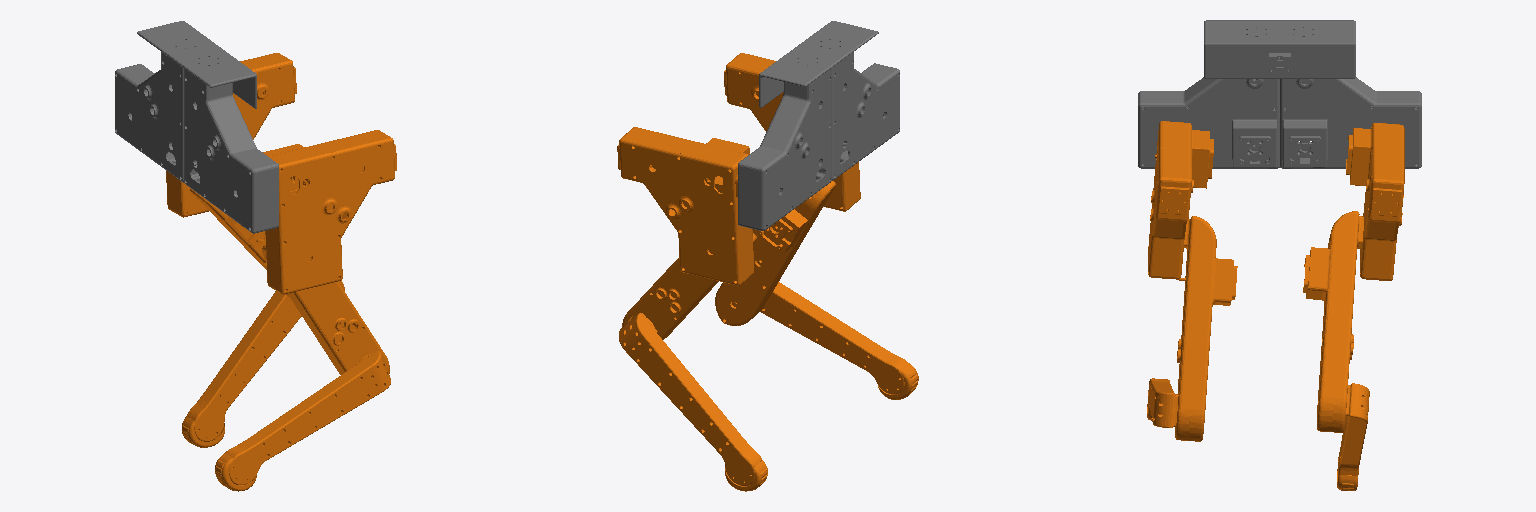
The robot description file, URDF, robot "Assembly_URDF":
<?xml version="1.0" encoding="utf-8"?>
<!-- This URDF was automatically created by SolidWorks to URDF Exporter! Originally created by Stephen Brawner (brawner@gmail.com) 
     Commit Version: 1.6.0-4-g7f85cfe  Build Version: 1.6.7995.38578
     For more information, please see http://wiki.ros.org/sw_urdf_exporter -->
<robot
  name="Assembly_URDF">
  <link
    name="Torso">
    <inertial>
      <origin
        xyz="0.061917 -0.16299 0.095403"
        rpy="0 0 0" />
      <mass
        value="1.58511" />
      <inertia
        ixx="0.010187"
        ixy="6.3307E-05"
        ixz="0.00019856"
        iyy="0.0050984"
        iyz="0.0004277"
        izz="0.0056374" />
    </inertial>
    <visual>
      <origin
        xyz="0 0 0"
        rpy="0 0 0" />
      <geometry>
        <mesh
          filename="../meshes/Torso.STL" />
      </geometry>
      <material
        name="PLA">
        <color
          rgba="0.5 0.5 0.5 1" />
      </material>
    </visual>
    <collision>
      <origin
        xyz="0 0 0"
        rpy="0 0 0" />
      <geometry>
        <mesh
          filename="../meshes/Torso.STL" />
      </geometry>
    </collision>
  </link>
  <link
    name="Hip_Left">
    <inertial>
      <origin
        xyz="-0.042811 -0.078727 -0.0058043"
        rpy="0 0 0" />
      <mass
        value="0.754" />
      <inertia
        ixx="0.0017359"
        ixy="0.00057443"
        ixz="0.00016414"
        iyy="0.0016901"
        iyz="-9.6086E-06"
        izz="0.0032829" />
    </inertial>
    <visual>
      <origin
        xyz="0 0 0"
        rpy="0 0 0" />
      <geometry>
        <mesh
          filename="../meshes/Hip_Left.STL" />
      </geometry>
      <material
        name="PLA">
        <color
          rgba="0.9 0.5 0.1 1" />
      </material>
    </visual>
    <collision>
      <origin
        xyz="0 0 0"
        rpy="0 0 0" />
      <geometry>
        <mesh
          filename="../meshes/Hip_Left.STL" />
      </geometry>
    </collision>
  </link>
  <joint
    name="hip_left"
    type="revolute">
    <origin
      xyz="0.08708 -0.34069 0.044953"
      rpy="1.5708 -1.5708 0" />
    <parent
      link="Torso" />
    <child
      link="Hip_Left" />
    <axis
      xyz="0 1 0" />
    <limit
      lower="-0.2"
      upper="0.4"
      effort="55"
      velocity="20" />
  </joint>
  <link
    name="Thigh_Left">
    <inertial>
      <origin
        xyz="0.051989 -0.016129 0.09414"
        rpy="0 0 0" />
      <mass
        value="0.655" />
      <inertia
        ixx="0.0057317"
        ixy="-0.00047408"
        ixz="-0.0028129"
        iyy="0.0075712"
        iyz="-0.00087547"
        izz="0.0023853" />
    </inertial>
    <visual>
      <origin
        xyz="0 0 0"
        rpy="0 0 0" />
      <geometry>
        <mesh
          filename="../meshes/Thigh_Left.STL" />
      </geometry>
      <material
        name="PLA">
        <color
          rgba="0.9 0.5 0.1 1" />
      </material>
    </visual>
    <collision>
      <origin
        xyz="0 0 0"
        rpy="0 0 0" />
      <geometry>
        <mesh
          filename="../meshes/Thigh_Left.STL" />
      </geometry>
    </collision>
  </link>
  <joint
    name="thigh_left"
    type="revolute">
    <origin
      xyz="-0.12726 -0.0505 -0.025187"
      rpy="1.5909 0 -1.5708" />
    <parent
      link="Hip_Left" />
    <child
      link="Thigh_Left" />
    <axis
      xyz="0 0.99521 -0.097756" />
    <limit
      lower="-2"
      upper="1"
      effort="55"
      velocity="20" />
  </joint>
  <link
    name="Shank_Left">
    <inertial>
      <origin
        xyz="-0.061153 -0.019631 -0.14718"
        rpy="0 0 0" />
      <mass
        value="0.28251" />
      <inertia
        ixx="0.0019421"
        ixy="-1.179E-05"
        ixz="-0.00078463"
        iyy="0.0023239"
        iyz="-4.0715E-05"
        izz="0.00041" />
    </inertial>
    <visual>
      <origin
        xyz="0 0 0"
        rpy="0 0 0" />
      <geometry>
        <mesh
          filename="../meshes/Shank_Left.STL" />
      </geometry>
      <material
        name="PLA">
        <color
          rgba="0.9 0.5 0.1 1" />
      </material>
    </visual>
    <collision>
      <origin
        xyz="0 0 0"
        rpy="0 0 0" />
      <geometry>
        <mesh
          filename="../meshes/Shank_Left.STL" />
      </geometry>
    </collision>
  </link>
  <joint
    name="shank_left"
    type="revolute">
    <origin
      xyz="0.13187 0.027867 0.23255"
      rpy="3.1416 -0.81921 0" />
    <parent
      link="Thigh_Left" />
    <child
      link="Shank_Left" />
    <axis
      xyz="0.071421 0.99521 -0.066747" />
    <limit
      lower="-3.5"
      upper="0.5"
      effort="55"
      velocity="20" />
  </joint>
  <link
    name="Hip_Right">
    <inertial>
      <origin
        xyz="-0.04238 -0.096347 0.018058"
        rpy="0 0 0" />
      <mass
        value="0.754" />
      <inertia
        ixx="0.00323"
        ixy="0.00098777"
        ixz="0.00013991"
        iyy="0.0031565"
        iyz="-0.00020179"
        izz="0.0061566" />
    </inertial>
    <visual>
      <origin
        xyz="0 0 0"
        rpy="0 0 0" />
      <geometry>
        <mesh
          filename="../meshes/Hip_Right.STL" />
      </geometry>
      <material
        name="PLA">
        <color
          rgba="0.9 0.5 0.1 1" />
      </material>
    </visual>
    <collision>
      <origin
        xyz="0 0 0"
        rpy="0 0 0" />
      <geometry>
        <mesh
          filename="../meshes/Hip_Right.STL" />
      </geometry>
    </collision>
  </link>
  <joint
    name="hip_right"
    type="revolute">
    <origin
      xyz="0.08177 -0.014856 0.044953"
      rpy="1.5708 -1.5708 0" />
    <parent
      link="Torso" />
    <child
      link="Hip_Right" />
    <axis
      xyz="0 1 0" />
    <limit
      lower="-0.2"
      upper="0.4"
      effort="55"
      velocity="20" />
  </joint>
  <link
    name="Thigh_Right">
    <inertial>
      <origin
        xyz="0.065346 -0.038287 -0.078458"
        rpy="0 0 0" />
      <mass
        value="0.655" />
      <inertia
        ixx="0.0047088"
        ixy="6.0287E-06"
        ixz="0.0032615"
        iyy="0.0076864"
        iyz="-3.4161E-05"
        izz="0.0032303" />
    </inertial>
    <visual>
      <origin
        xyz="0 0 0"
        rpy="0 0 0" />
      <geometry>
        <mesh
          filename="../meshes/Thigh_Right.STL" />
      </geometry>
      <material
        name="PLA">
        <color
          rgba="0.9 0.5 0.1 1" />
      </material>
    </visual>
    <collision>
      <origin
        xyz="0 0 0"
        rpy="0 0 0" />
      <geometry>
        <mesh
          filename="../meshes/Thigh_Right.STL" />
      </geometry>
    </collision>
  </link>
  <joint
    name="thigh_right"
    type="revolute">
    <origin
      xyz="-0.12222 -0.0625 0.037338"
      rpy="-1.5753 0 -1.5708" />
    <parent
      link="Hip_Right" />
    <child
      link="Thigh_Right" />
    <axis
      xyz="0 0.99687 -0.07906" />
    <limit
      lower="-1"
      upper="2"
      effort="55"
      velocity="20" />
  </joint>
  <link
    name="Shank_Right">
    <inertial>
      <origin
        xyz="-0.013788 -0.010056 0.16019"
        rpy="0 0 0" />
      <mass
        value="0.28251" />
      <inertia
        ixx="0.002247"
        ixy="1.4052E-05"
        ixz="0.00023346"
        iyy="0.0023139"
        iyz="-0.00015694"
        izz="0.00011505" />
    </inertial>
    <visual>
      <origin
        xyz="0 0 0"
        rpy="0 0 0" />
      <geometry>
        <mesh
          filename="../meshes/Shank_Right.STL" />
      </geometry>
      <material
        name="PLA">
        <color
          rgba="0.9 0.5 0.1 1" />
      </material>
    </visual>
    <collision>
      <origin
        xyz="0 0 0"
        rpy="0 0 0" />
      <geometry>
        <mesh
          filename="../meshes/Shank_Right.STL" />
      </geometry>
    </collision>
  </link>
  <joint
    name="shank_right"
    type="revolute">
    <origin
      xyz="0.16821 -0.024545 -0.2083"
      rpy="3.1416 0.69204 0" />
    <parent
      link="Thigh_Right" />
    <child
      link="Shank_Right" />
    <axis
      xyz="0.050449 -0.99687 0.060872" />
    <limit
      lower="-3.5"
      upper="1.0"
      effort="55"
      velocity="20" />
  </joint>
</robot>

--- Facts derived from the render (not from the file) ---
The picture shows the robot from 3 angles, left to right: view 1: azimuth 30°, elevation 25°; view 2: azimuth 150°, elevation 25°; view 3: azimuth 270°, elevation 25°; orthographic projection.
Robot: Assembly_URDF — 7 links, 6 joints (6 revolute); root link Torso; default pose: every joint at zero.
Links seen in each view (by area): view 1: Torso, Hip_Left, Shank_Left, Shank_Right, Thigh_Left, Hip_Right, Thigh_Right; view 2: Torso, Hip_Right, Shank_Right, Shank_Left, Thigh_Left, Hip_Left, Thigh_Right; view 3: Torso, Thigh_Right, Thigh_Left, Hip_Left, Hip_Right, Shank_Right, Shank_Left.
Link boxes in pixels (x1,y1,x2,y2): Torso: (115, 21, 278, 233); Hip_Left: (263, 130, 396, 294); Shank_Left: (215, 351, 390, 491); Shank_Right: (182, 291, 301, 447); Thigh_Left: (262, 245, 389, 374); Hip_Right: (166, 53, 296, 217); Thigh_Right: (190, 189, 344, 290); Torso: (738, 21, 899, 230); Hip_Right: (617, 127, 753, 285); Shank_Right: (619, 313, 767, 491); Shank_Left: (760, 282, 918, 399); Thigh_Left: (715, 181, 835, 325); Hip_Left: (724, 53, 860, 211); Thigh_Right: (622, 233, 756, 339); Torso: (1138, 20, 1421, 168); Thigh_Right: (1303, 211, 1363, 432); Thigh_Left: (1175, 216, 1237, 441); Hip_Left: (1148, 121, 1213, 279); Hip_Right: (1346, 123, 1404, 280); Shank_Right: (1337, 383, 1369, 490); Shank_Left: (1147, 378, 1178, 427).
Size in the robot's own frame: 0.3687 by 0.43 by 0.7297 metres.
7 mesh visuals loaded from 7 distinct referenced files (7 binary STL).
